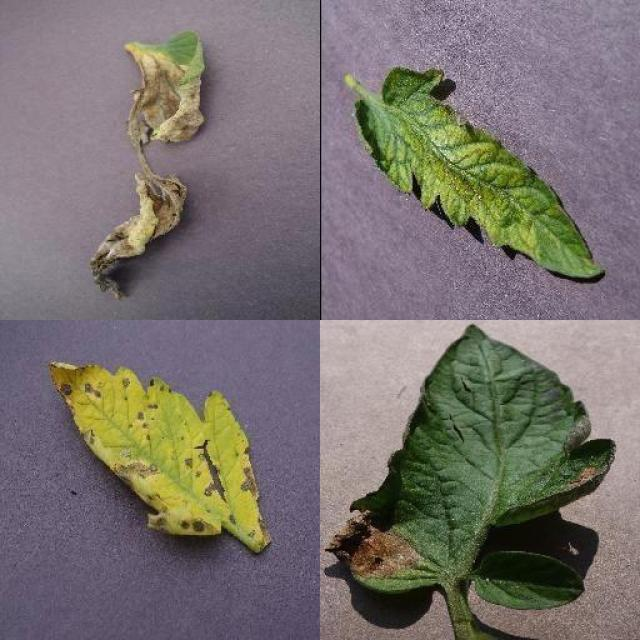Late Blight: (323, 322, 618, 592), (91, 30, 211, 298)
Septoria: (48, 358, 272, 558)
